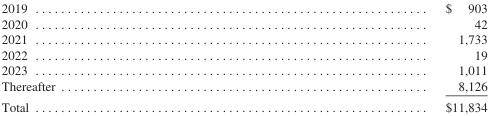table: (0, 0, 486, 113)
table column: (0, 0, 249, 113), (249, 0, 486, 113)
table row: (0, 77, 486, 95), (0, 95, 486, 113), (0, 15, 486, 31), (0, 46, 486, 62), (0, 0, 486, 15), (0, 31, 486, 46), (0, 62, 486, 77)
